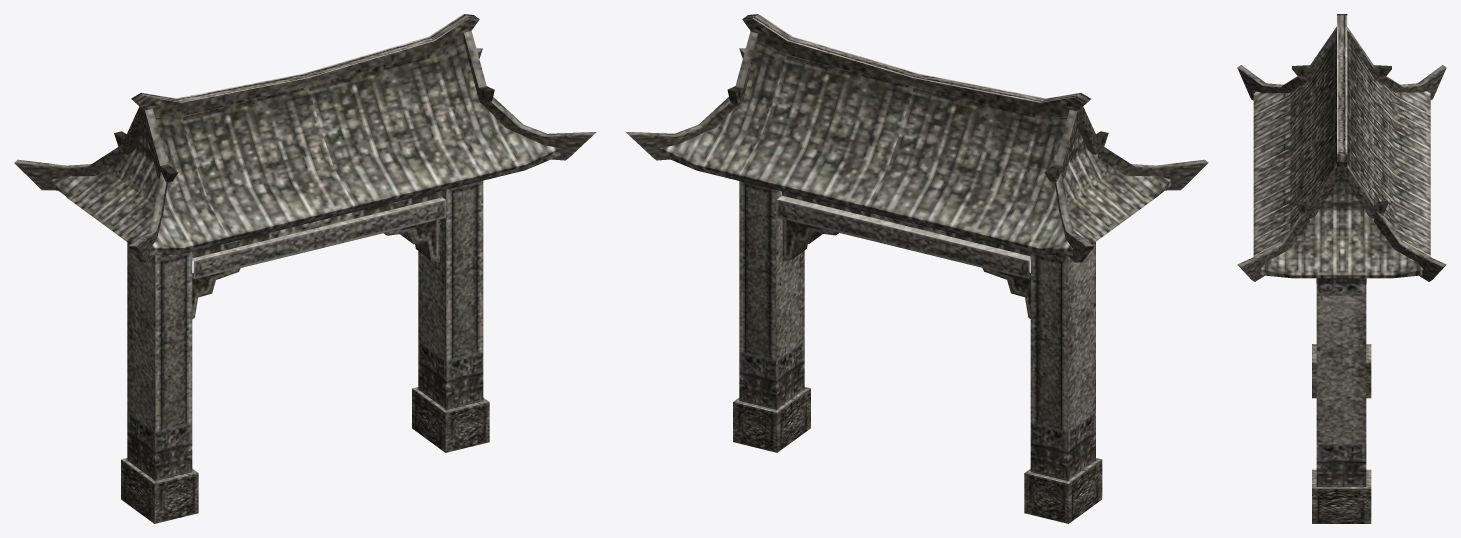
The model's file is general_obj_stonedoor.glb.
3 views of the same model, side by side, from view 1: azimuth 30°, elevation 25°; view 2: azimuth 150°, elevation 25°; view 3: azimuth 270°, elevation 25° (orthographic). The views are drawn at different scales.
Visible parts, largest first — view 1: Object05; view 2: Object05; view 3: Object05.
Boxes of the visible parts, left/top/right/bottom form: Object05: left=14, top=14, right=596, bottom=523; Object05: left=625, top=14, right=1208, bottom=523; Object05: left=1237, top=14, right=1446, bottom=523.
Bounding box in the file's own units: 11.16 × 9.44 × 4.89.
Materials: 1 (1 with a texture image).
